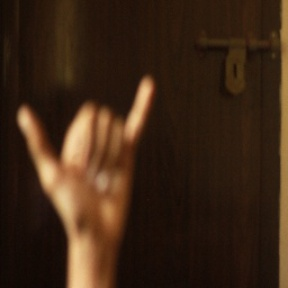J: (15, 73, 156, 242)
